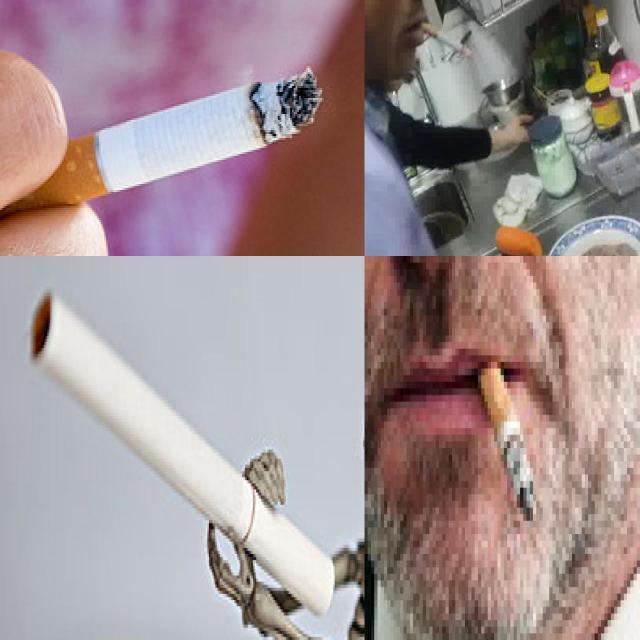smoking: (27, 284, 336, 620), (66, 62, 324, 202), (473, 341, 537, 523), (418, 22, 472, 58)
